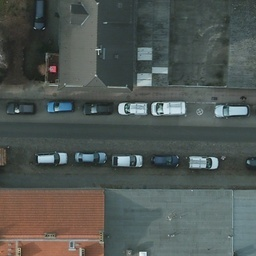car: (32, 0, 49, 33), (214, 103, 249, 119), (33, 151, 68, 167), (118, 101, 150, 117), (188, 155, 218, 172), (84, 100, 114, 116), (110, 153, 142, 168), (149, 152, 179, 167), (5, 101, 37, 115), (74, 151, 105, 165), (47, 101, 78, 114)
van: (153, 100, 185, 119)
